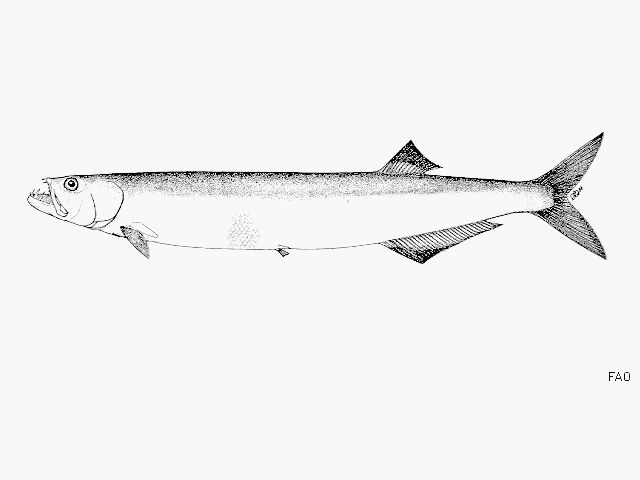fish: (26, 132, 609, 263)
